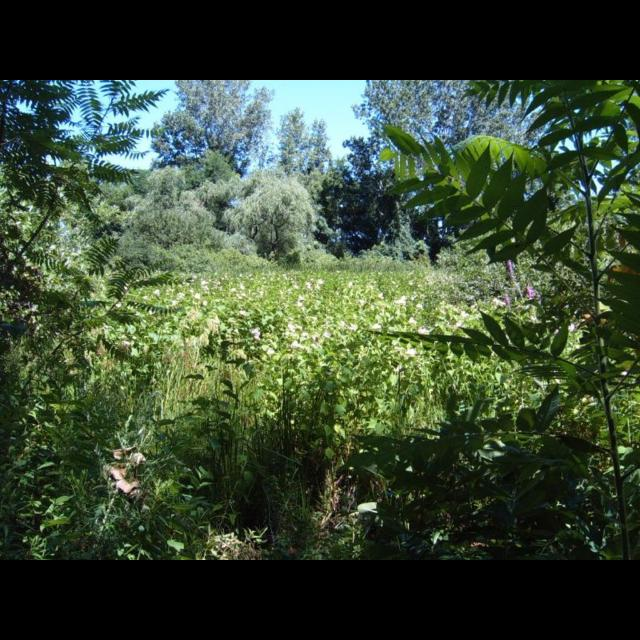Flower: (114, 262, 576, 371), (406, 348, 414, 356)
